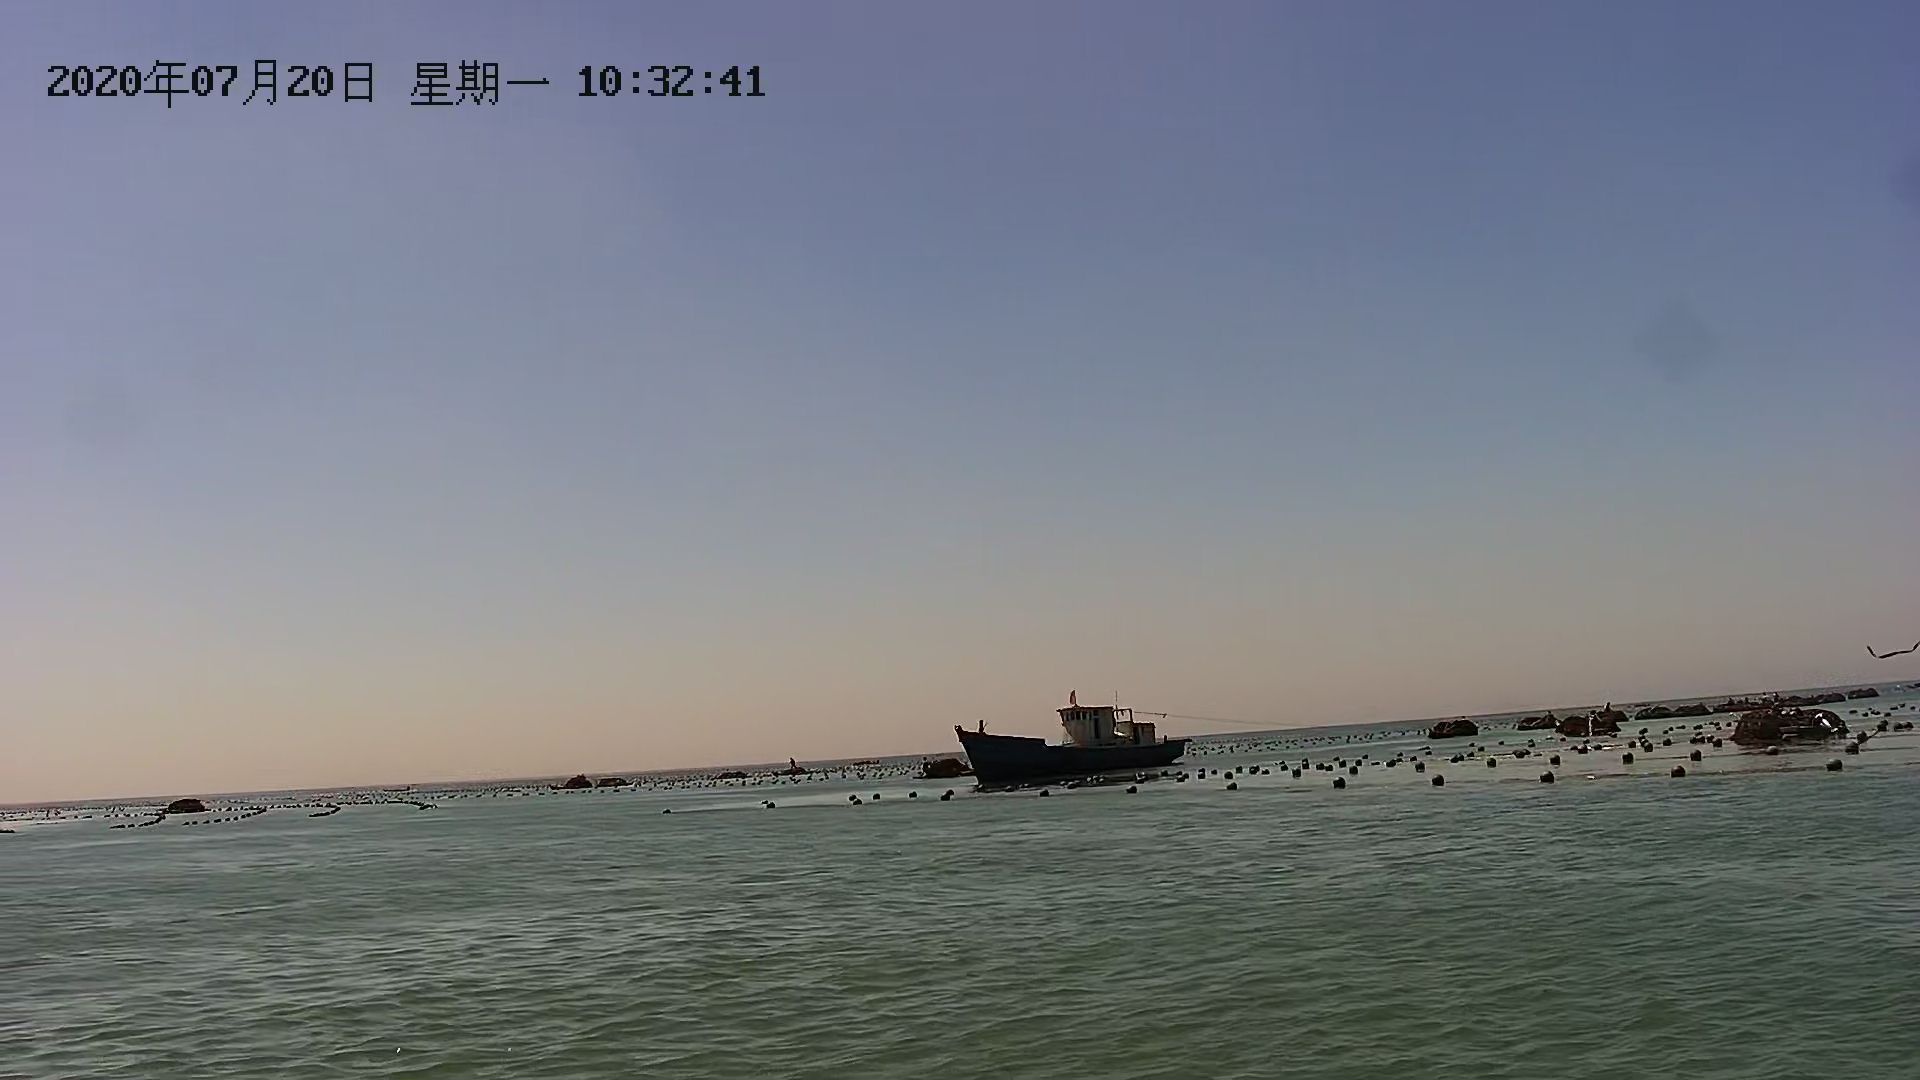ball: (1424, 767, 1451, 791), (1822, 756, 1851, 777), (1664, 761, 1693, 782), (1534, 770, 1559, 793)
rubbish: (1729, 694, 1854, 748), (1629, 696, 1809, 717), (1547, 717, 1621, 748), (1428, 717, 1490, 746), (911, 753, 973, 782), (161, 791, 206, 818), (553, 773, 597, 793)
ship: (943, 699, 1191, 785)
